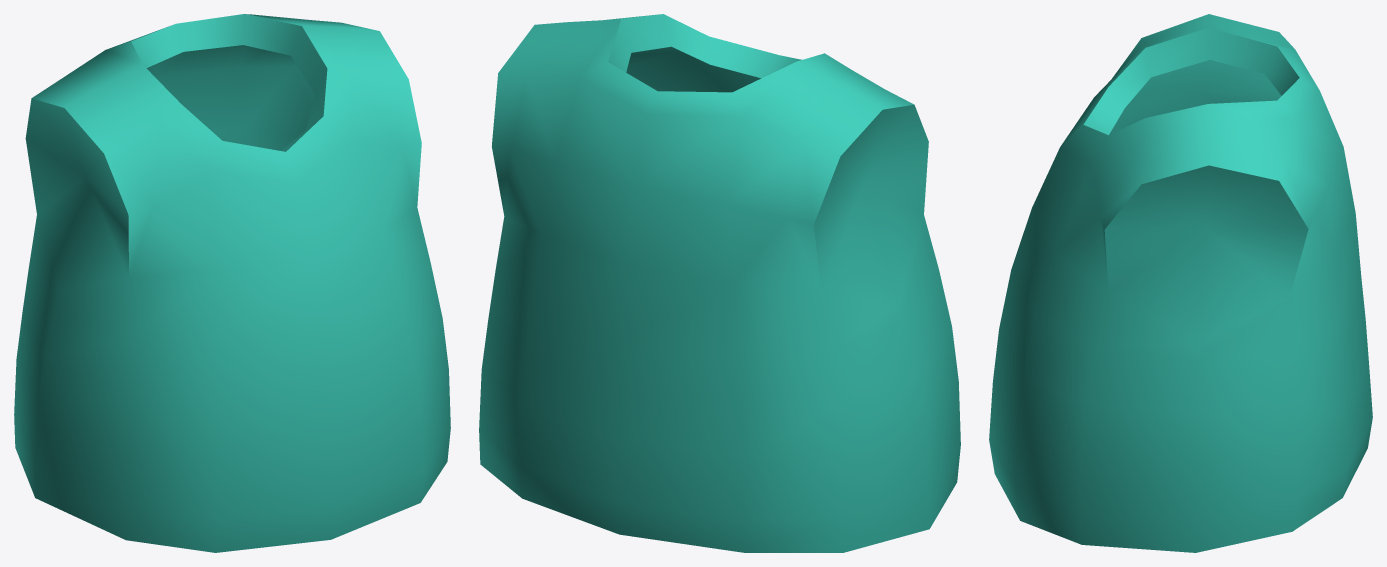
File: Top_57.fbx
3 renders of one model, left to right at view 1: azimuth 30°, elevation 25°; view 2: azimuth 150°, elevation 25°; view 3: azimuth 270°, elevation 25°, orthographic. The views are drawn at different scales.
Visible parts, largest first — view 1: Top_57; view 2: Top_57; view 3: Top_57.
Part boxes in pixels (box(x1,y1,x2,y2)): Top_57: box(14, 14, 450, 552); Top_57: box(479, 14, 960, 552); Top_57: box(989, 14, 1372, 552).
Bounding box in the file's own units: 40.41 × 41.36 × 35.24.
